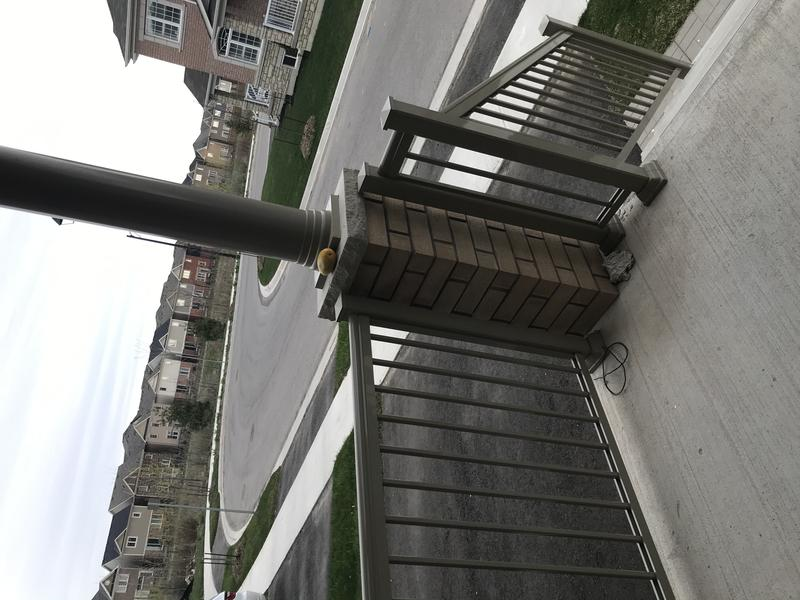mango: (314, 243, 341, 277)
